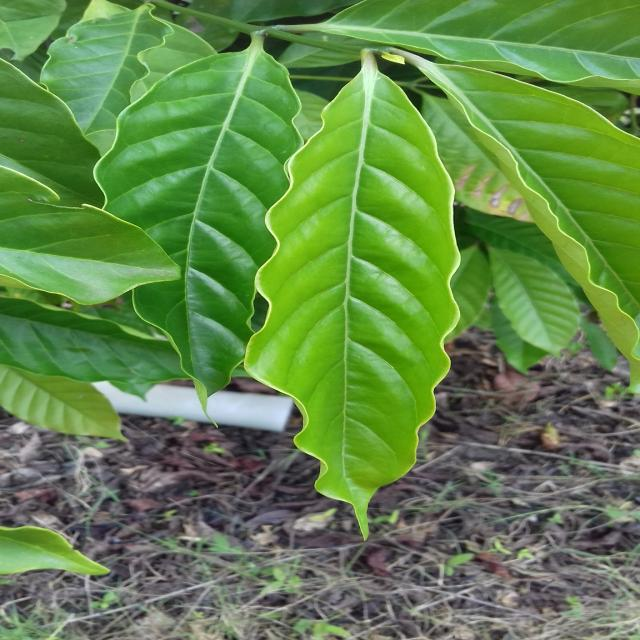Sanas: (245, 55, 458, 524)
